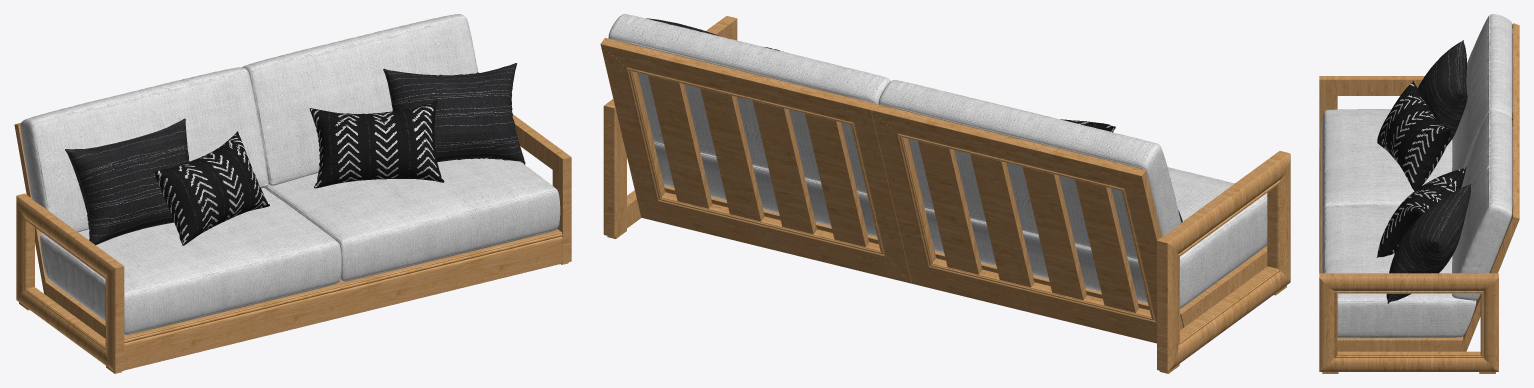
The model's file is costa-teak-sofa.glb.
The picture shows the model from 3 angles, left to right: view 1: azimuth 30°, elevation 25°; view 2: azimuth 150°, elevation 25°; view 3: azimuth 270°, elevation 25°; orthographic projection. The views are drawn at different scales.
Visible parts, largest first — view 1: seating, pillow, wooden frame; view 2: wooden frame, seating; view 3: seating, wooden frame, pillow.
Boxes of the visible parts, left/top/right/bottom form: seating: left=20, top=14, right=560, bottom=334; pillow: left=65, top=63, right=525, bottom=245; wooden frame: left=14, top=114, right=571, bottom=373; wooden frame: left=600, top=16, right=1290, bottom=373; seating: left=608, top=14, right=1267, bottom=308; seating: left=1321, top=14, right=1512, bottom=338; wooden frame: left=1319, top=23, right=1519, bottom=373; pillow: left=1376, top=40, right=1470, bottom=303.
Size of the model in its own units: 2.28 by 0.8495 by 0.9339.
4 materials, 4 textured.
